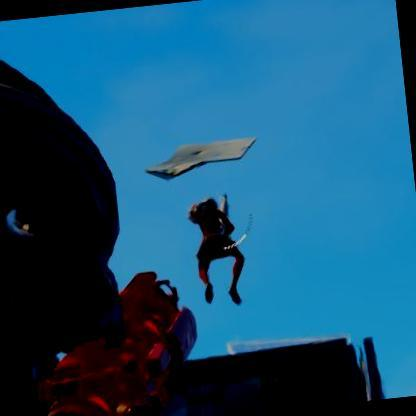person: (184, 192, 250, 306)
